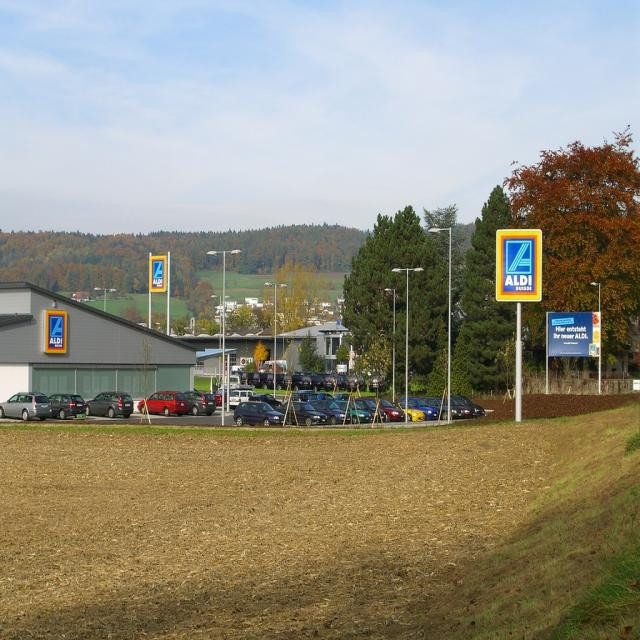aldi: (497, 230, 543, 302), (46, 311, 68, 354), (150, 256, 169, 295)
